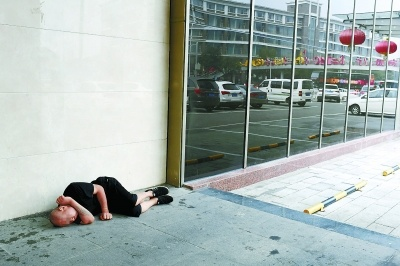falling: (43, 170, 179, 229)
